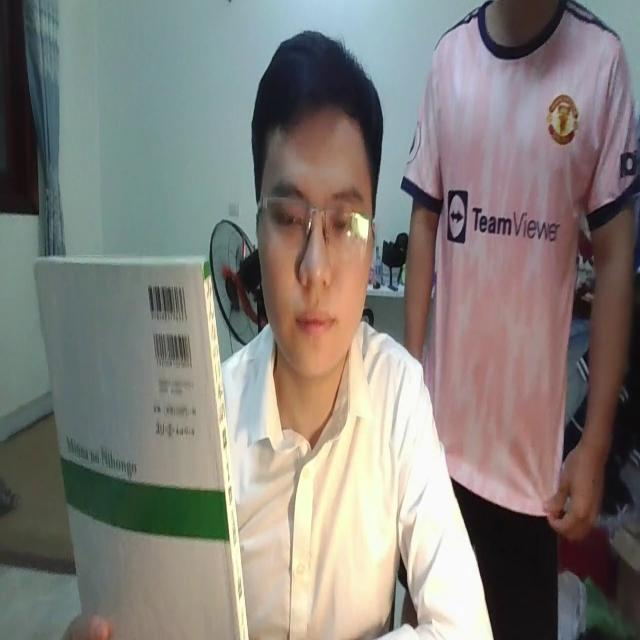book: (32, 237, 250, 640)
extra_person: (395, 0, 640, 640)
student: (221, 24, 495, 640)
